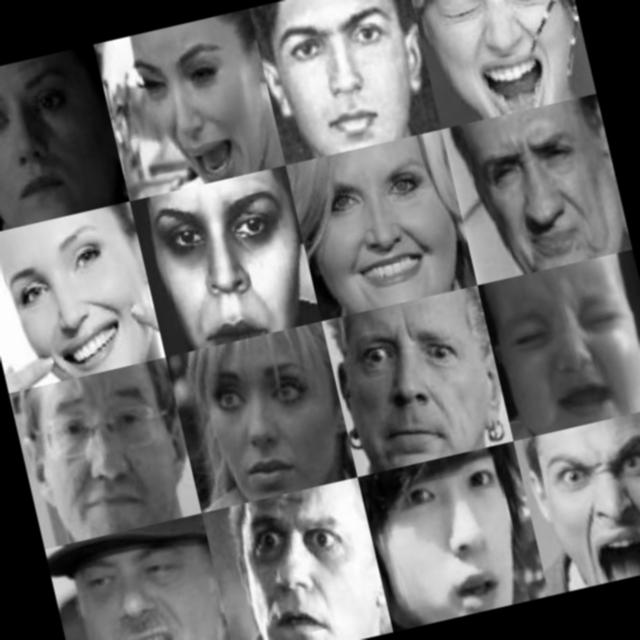angry: (148, 174, 306, 348), (466, 105, 620, 278), (264, 0, 426, 157), (0, 49, 117, 231), (419, 0, 588, 122), (525, 419, 640, 593)
fear: (376, 456, 541, 628), (338, 302, 497, 478), (225, 490, 372, 640)
happy: (0, 202, 166, 384), (298, 139, 460, 318)
neutral: (21, 361, 188, 544), (186, 322, 346, 505), (70, 533, 224, 640)
sad: (126, 12, 282, 190), (497, 264, 640, 430)
